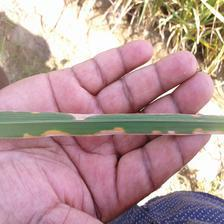2 BacterialBlight: (23, 121, 222, 142), (26, 105, 204, 124)
